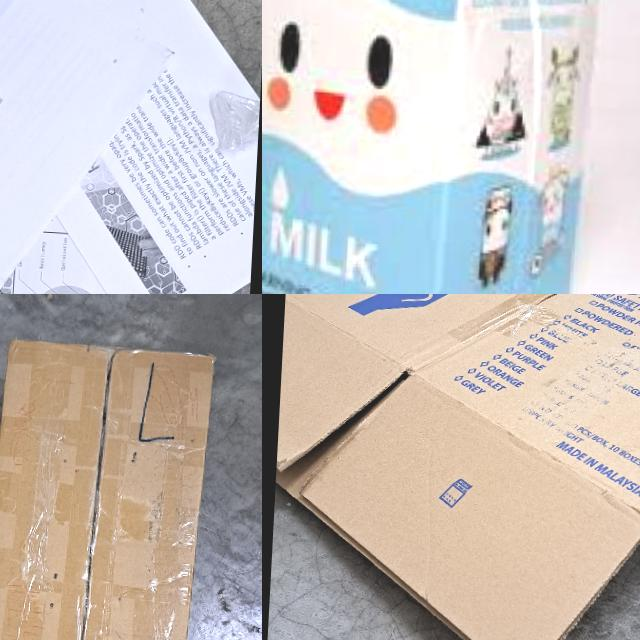caixinha: (262, 0, 605, 294)
papel: (0, 0, 262, 294)
papelão: (265, 294, 640, 640), (0, 336, 216, 640)
